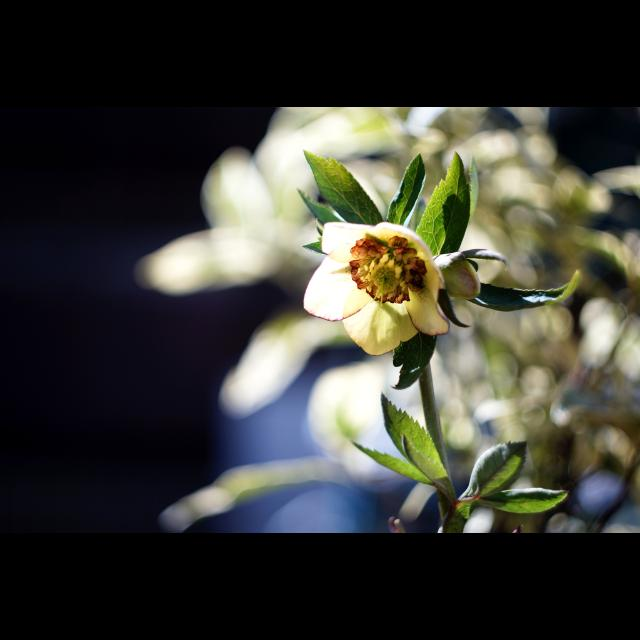Flower: (296, 221, 446, 357)
